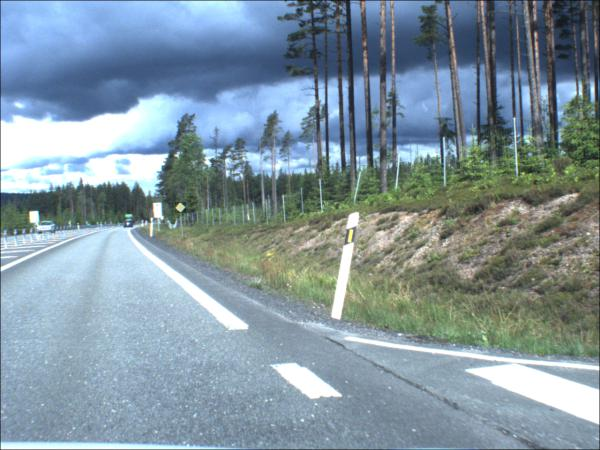PRIORITY_ROAD: (176, 203, 188, 215)
